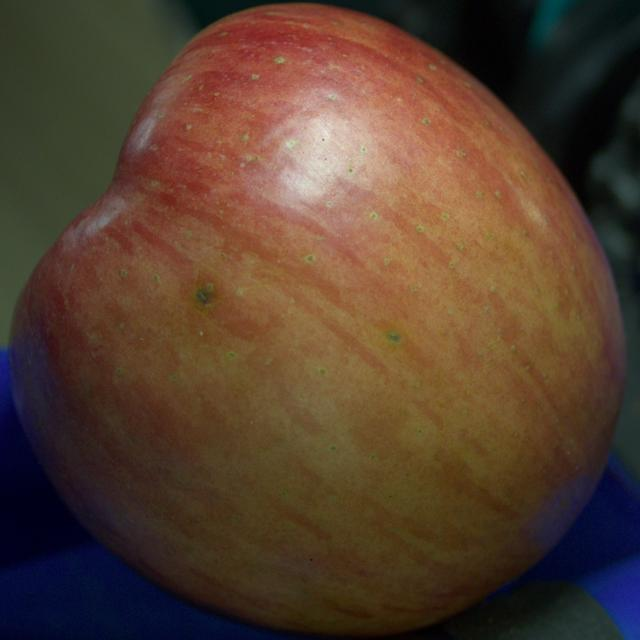apple: (9, 5, 626, 634)
pest: (197, 288, 211, 304)
